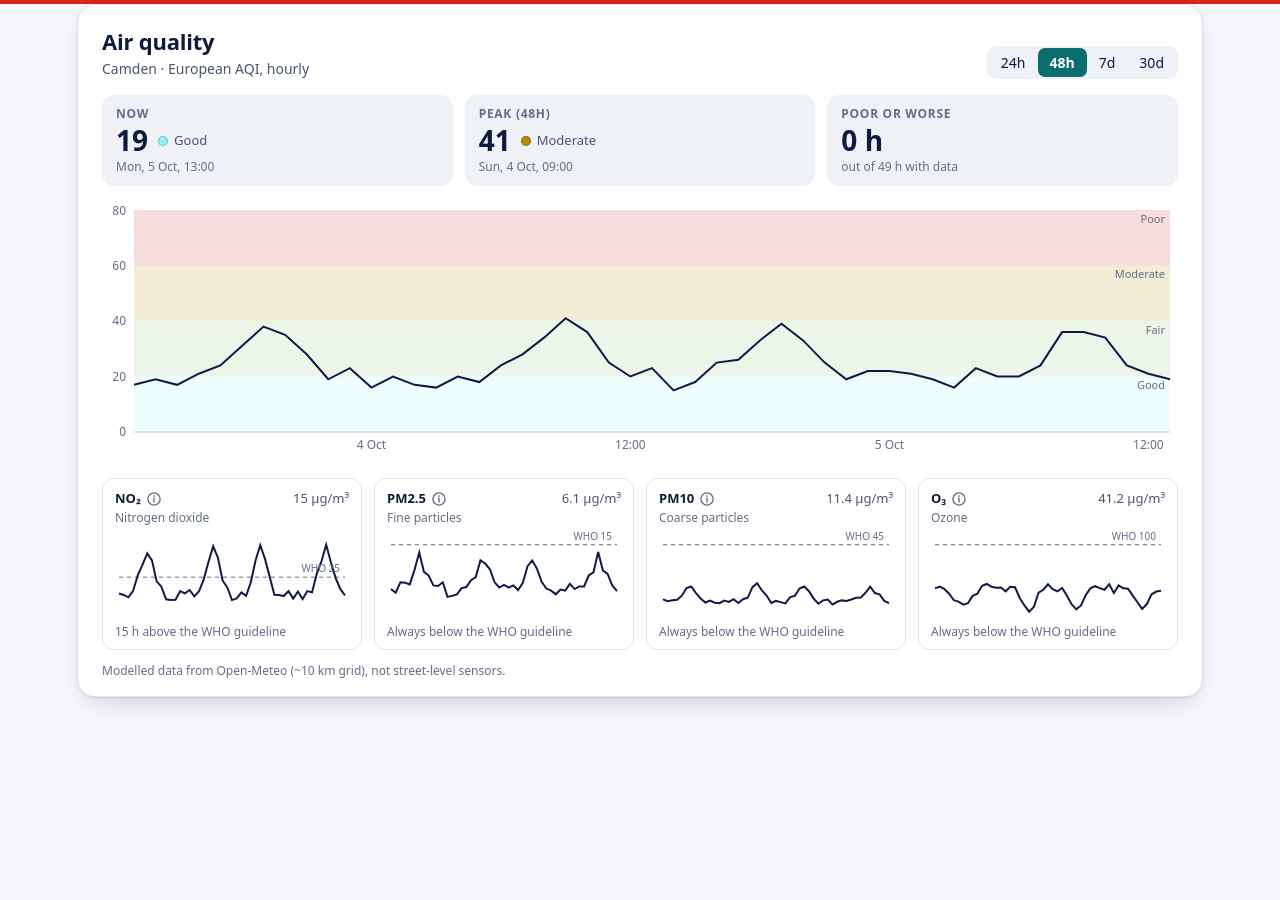
Test case: AirQualityWidget › when a refresh fails › does not pass off the previous range as the new one
Expected: the text "Peak (48h)" is shown, [479, 105, 551, 122]
Click the button "7d".
click(1107, 62)  # box [1087, 48, 1127, 77]
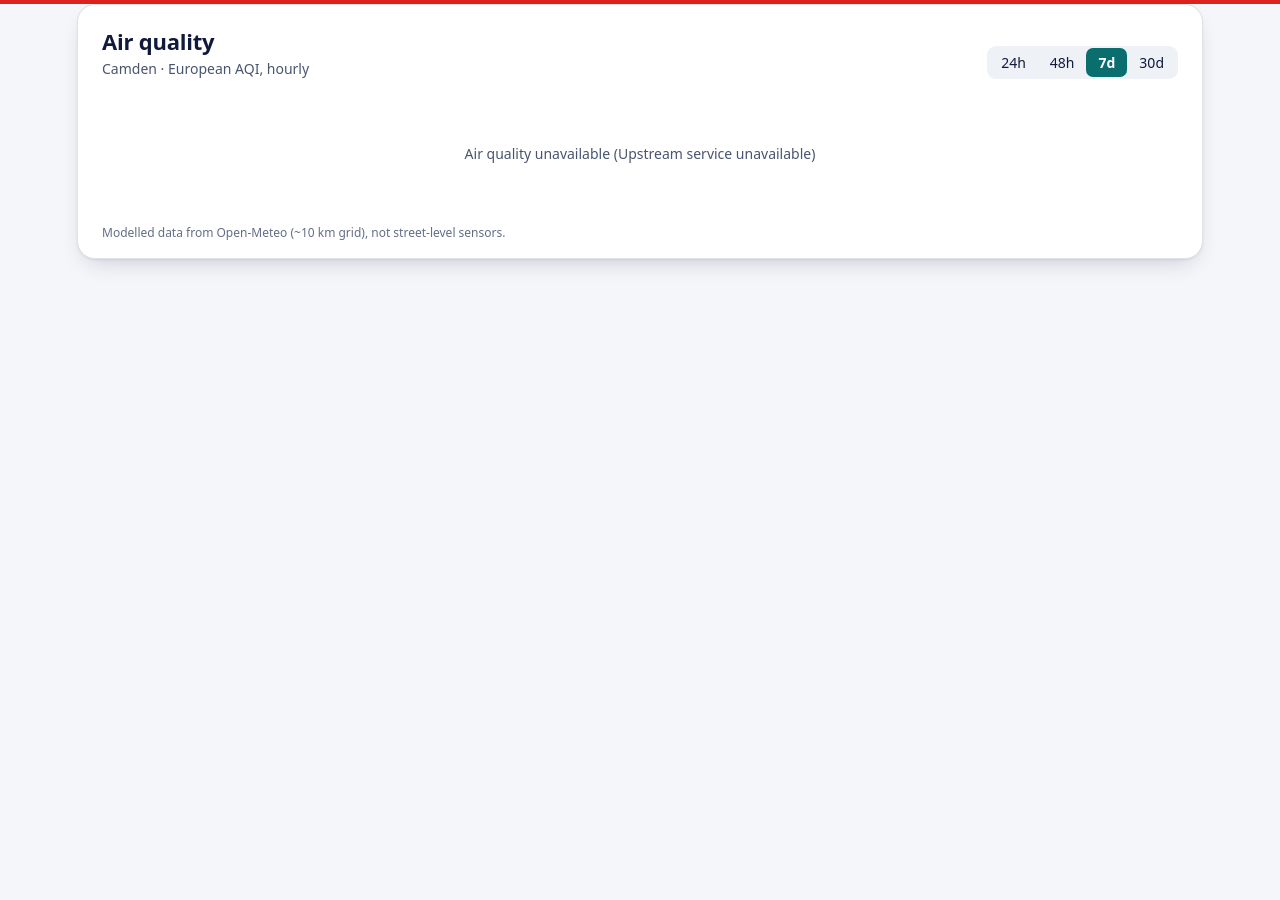
Result: the text "Air quality unavailable (Upstream service unavailable)" is shown at [465, 144, 815, 163]
Result: the text "Peak (48h)" is gone
